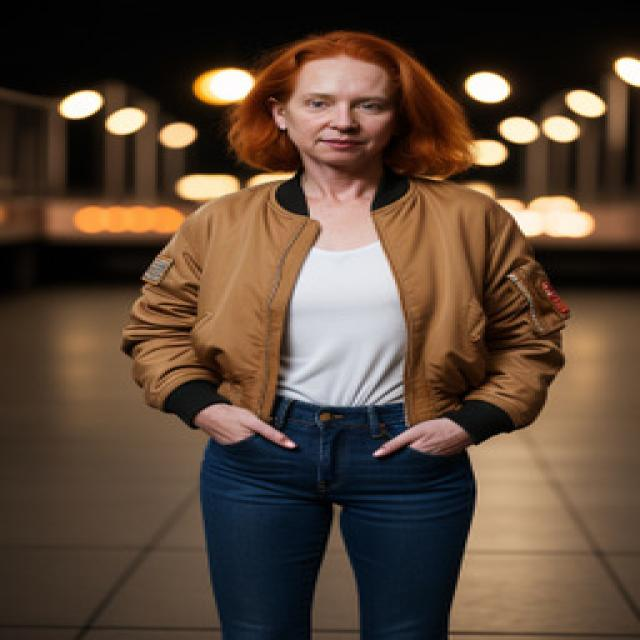Ai human 2: (108, 15, 572, 640)
